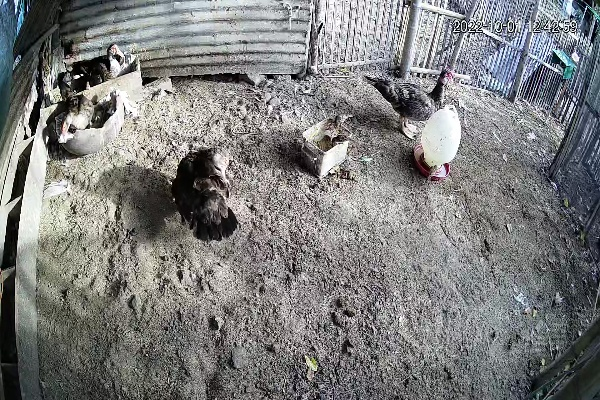Entog: (167, 138, 240, 246), (363, 62, 456, 140)
